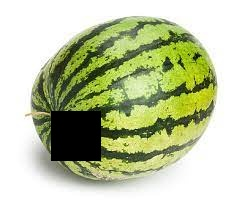watermelon: (29, 15, 218, 181)
